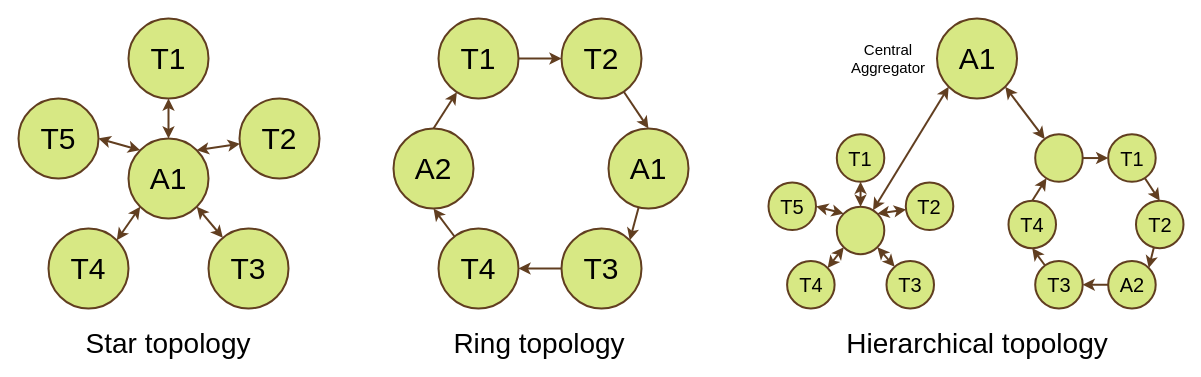
This 1201x377 diagram has some shape labels left out. The shapes that lost their labels are listed below. From the top down, each one's centre as x and y in pixels, then its label:
the point at 1058,157: HA2
the point at 860,230: HA1
